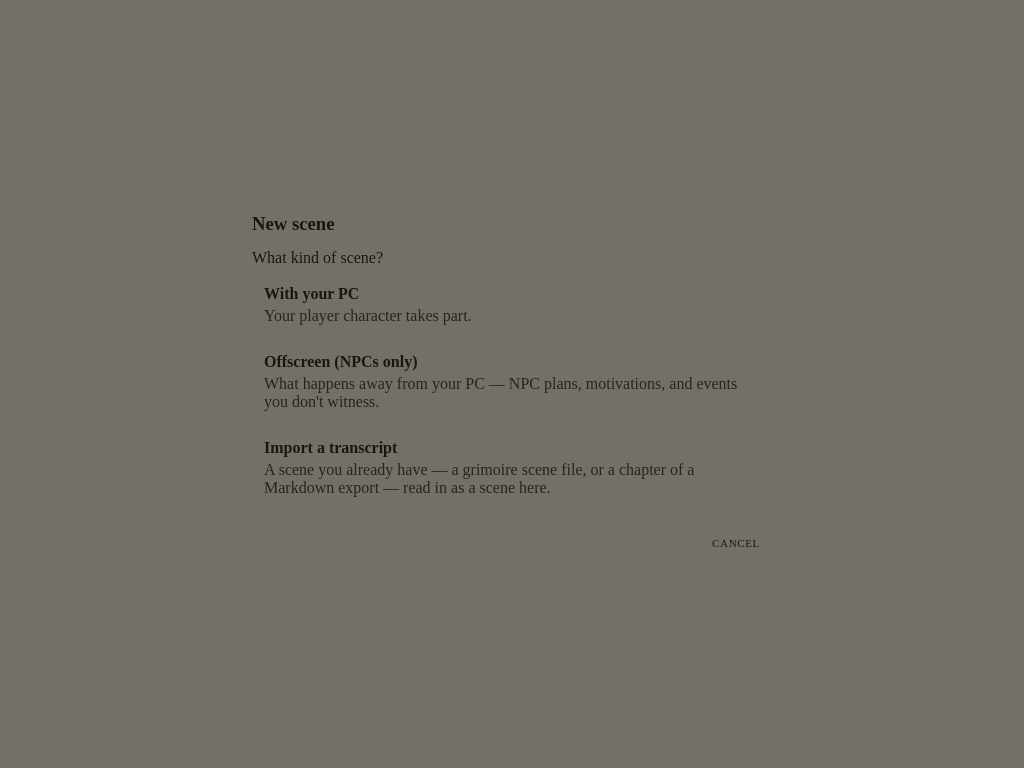
Test case: Offscreen Back retains its question while generation pending=false
Click the text "Offscreen (NPCs only)" at (341, 362), box [264, 353, 418, 371]
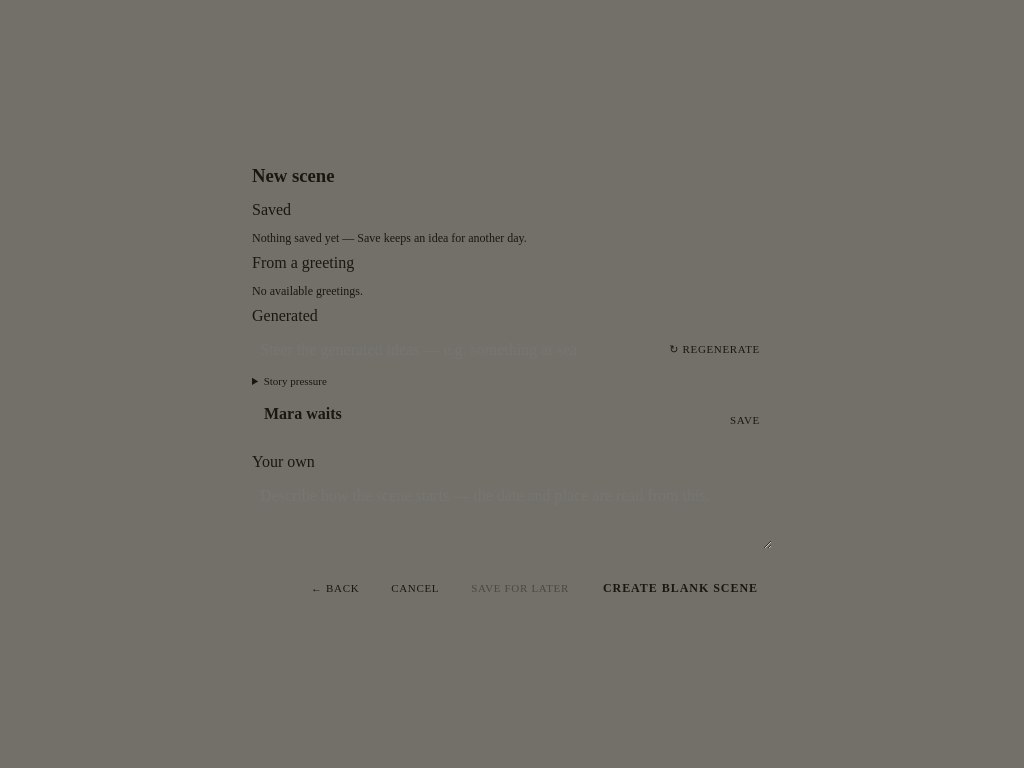
Click the button "← Back" at (335, 588), box [299, 572, 371, 604]
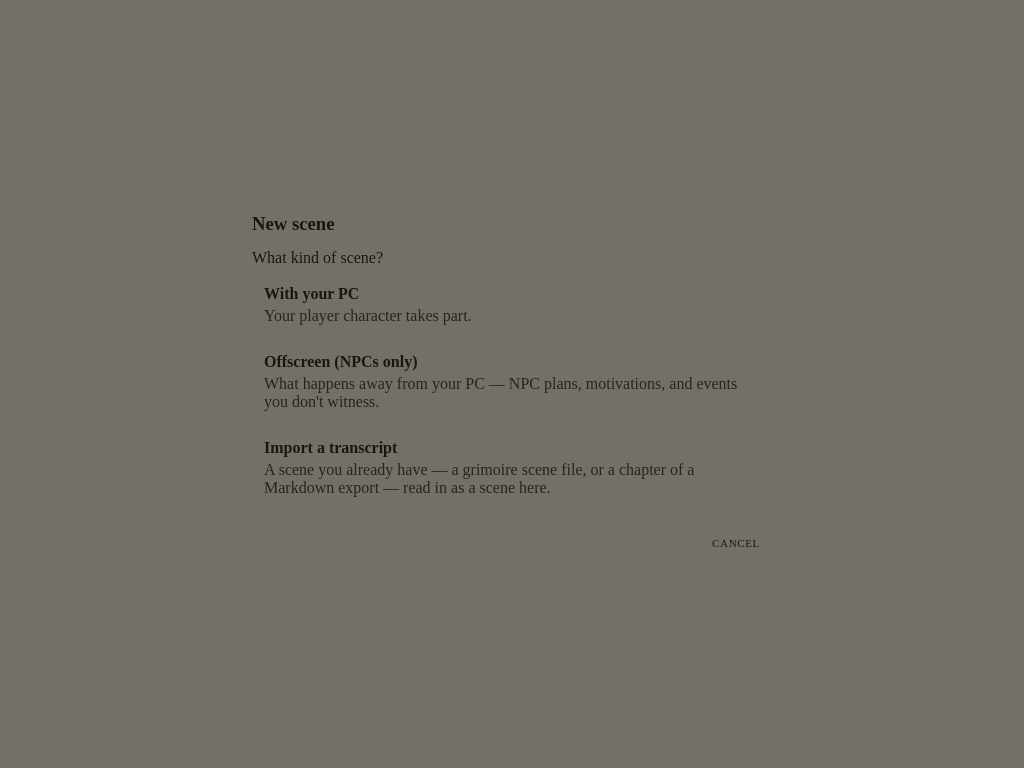
Click the text "Offscreen (NPCs only)" at (341, 362), box [264, 353, 418, 371]
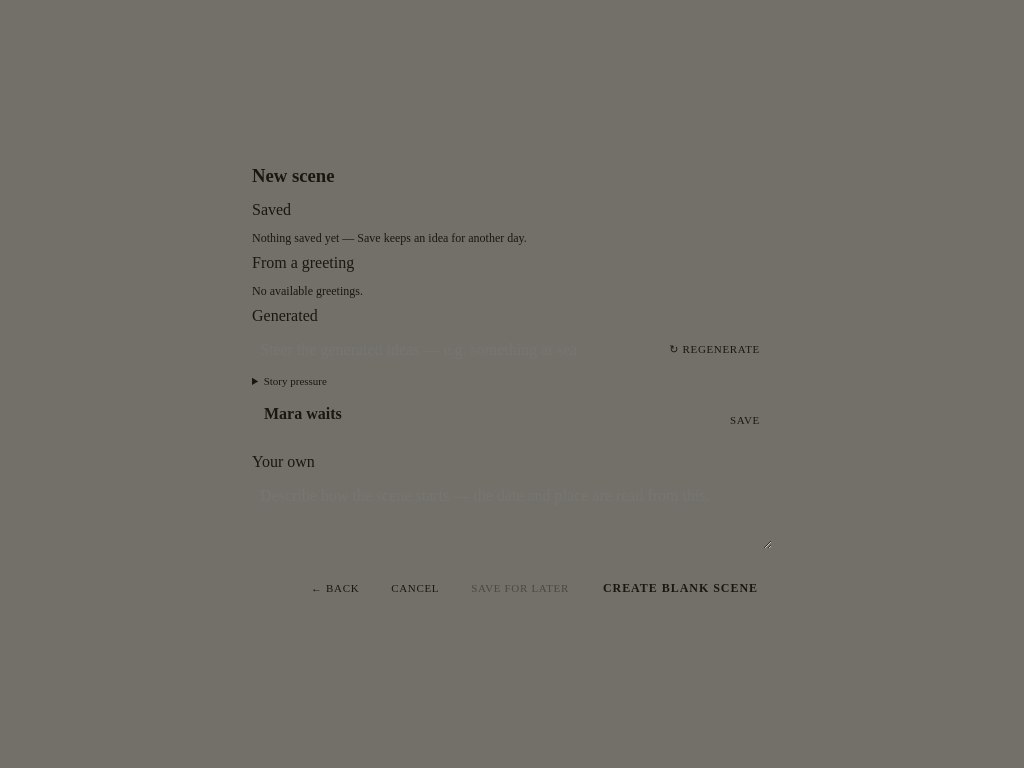
Expected: the text "Mara waits" is shown, [264, 404, 342, 422]
